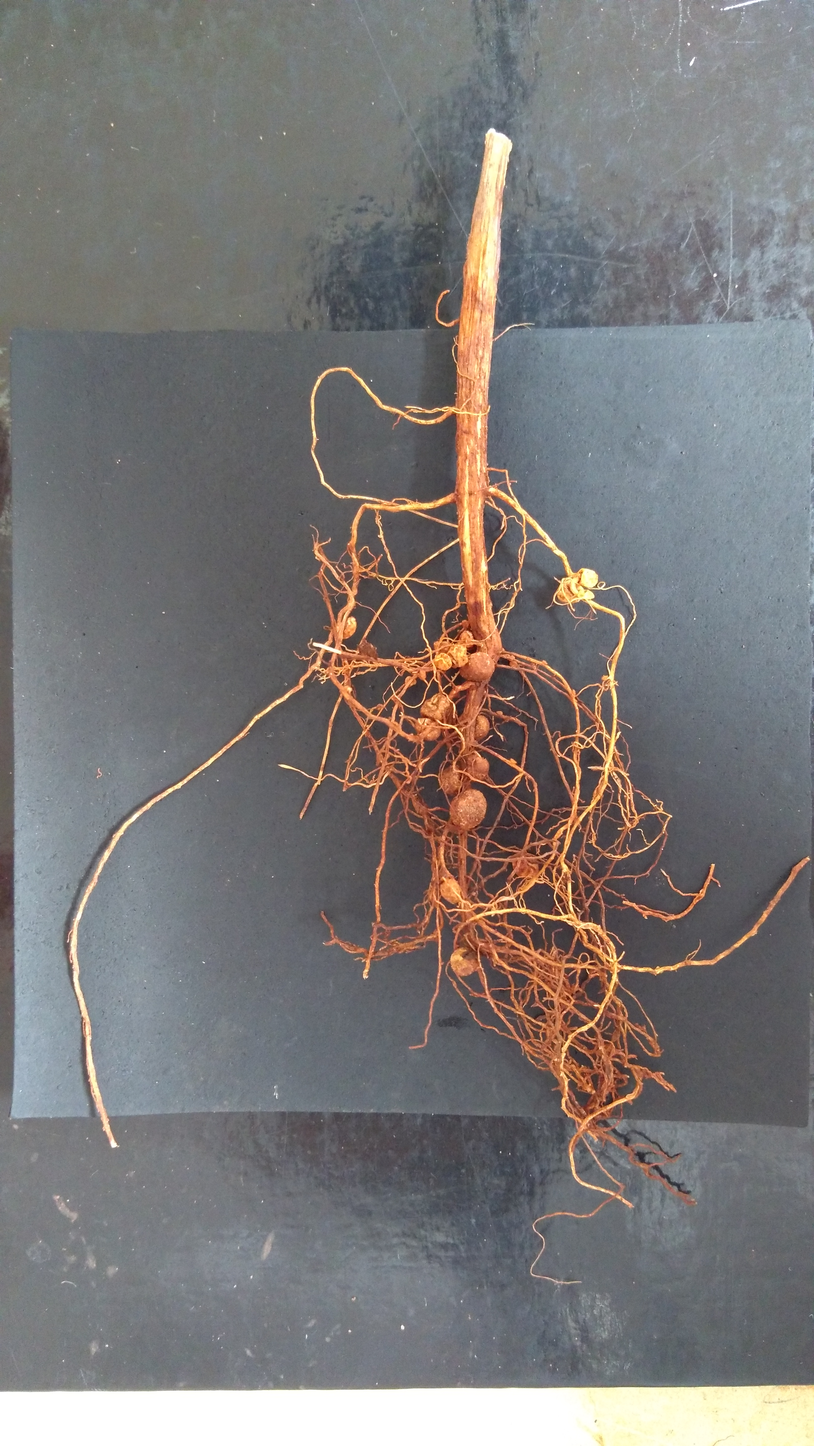nodule: (449, 789, 487, 830), (419, 693, 457, 729), (459, 651, 496, 681), (450, 947, 480, 976), (439, 764, 464, 795), (512, 851, 539, 878), (466, 752, 489, 782), (414, 717, 441, 741), (439, 878, 462, 904), (557, 580, 581, 603), (446, 644, 468, 669), (473, 713, 490, 741), (577, 568, 598, 588), (455, 630, 476, 650), (358, 638, 378, 659), (433, 640, 454, 658), (342, 616, 357, 640), (434, 652, 452, 671), (576, 584, 595, 600), (405, 676, 417, 687), (418, 668, 427, 680), (461, 619, 469, 631), (343, 685, 352, 695), (509, 659, 517, 668), (529, 662, 536, 671), (510, 757, 517, 765), (376, 703, 383, 710), (602, 675, 609, 681), (509, 655, 515, 661), (496, 711, 503, 716), (542, 660, 548, 665), (571, 689, 576, 695)
